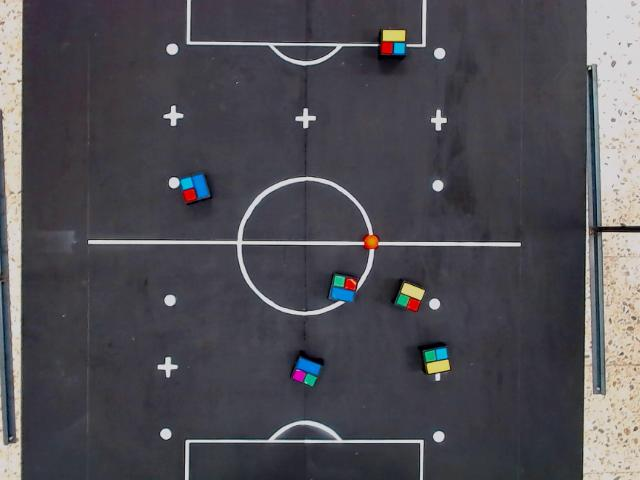robot: (178, 168, 213, 208), (289, 354, 325, 390), (393, 279, 428, 315), (326, 271, 361, 304), (377, 26, 410, 59), (421, 344, 453, 376)
